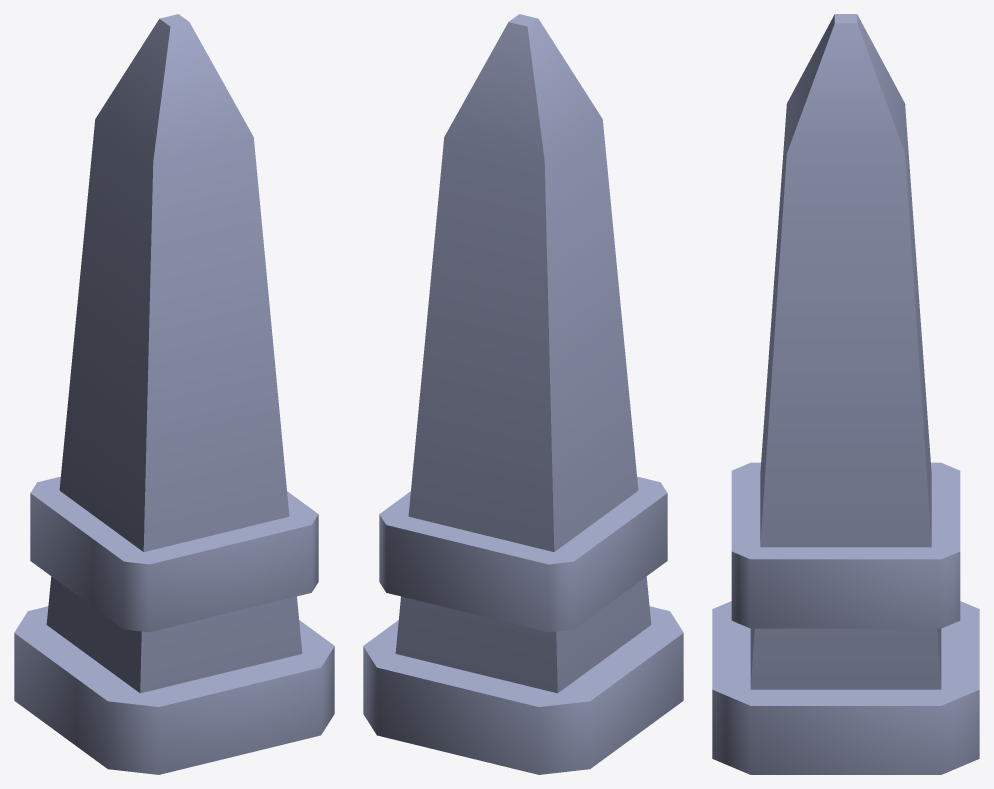
The model's file is pillar-obelisk.glb.
3 views of the same model, side by side, from view 1: azimuth 30°, elevation 25°; view 2: azimuth 150°, elevation 25°; view 3: azimuth 270°, elevation 25° (orthographic).
Visible parts, largest first — view 1: pillar-obelisk; view 2: pillar-obelisk; view 3: pillar-obelisk.
Boxes of the visible parts, x1=… form: pillar-obelisk: x1=14, y1=14, x2=334, y2=774; pillar-obelisk: x1=363, y1=14, x2=683, y2=774; pillar-obelisk: x1=712, y1=14, x2=979, y2=774.
Size of the model in its own units: 0.35 by 1.01 by 0.35.
Materials: 1 (1 with a texture image).
